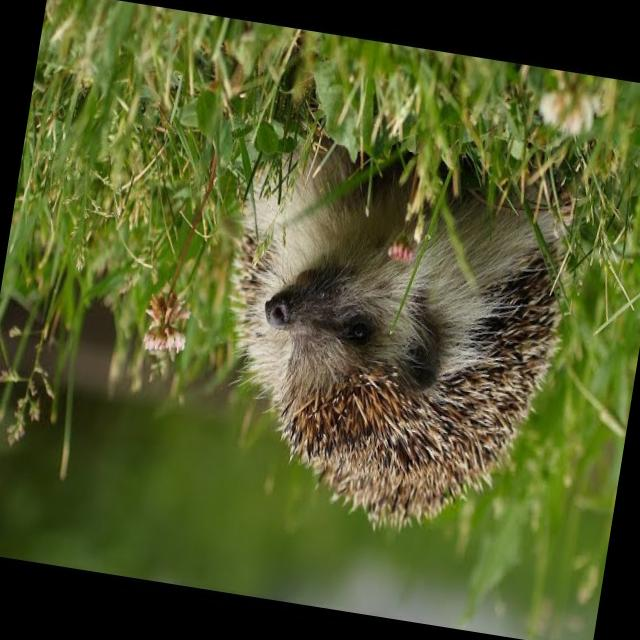Hedgehog: (204, 140, 582, 534)
